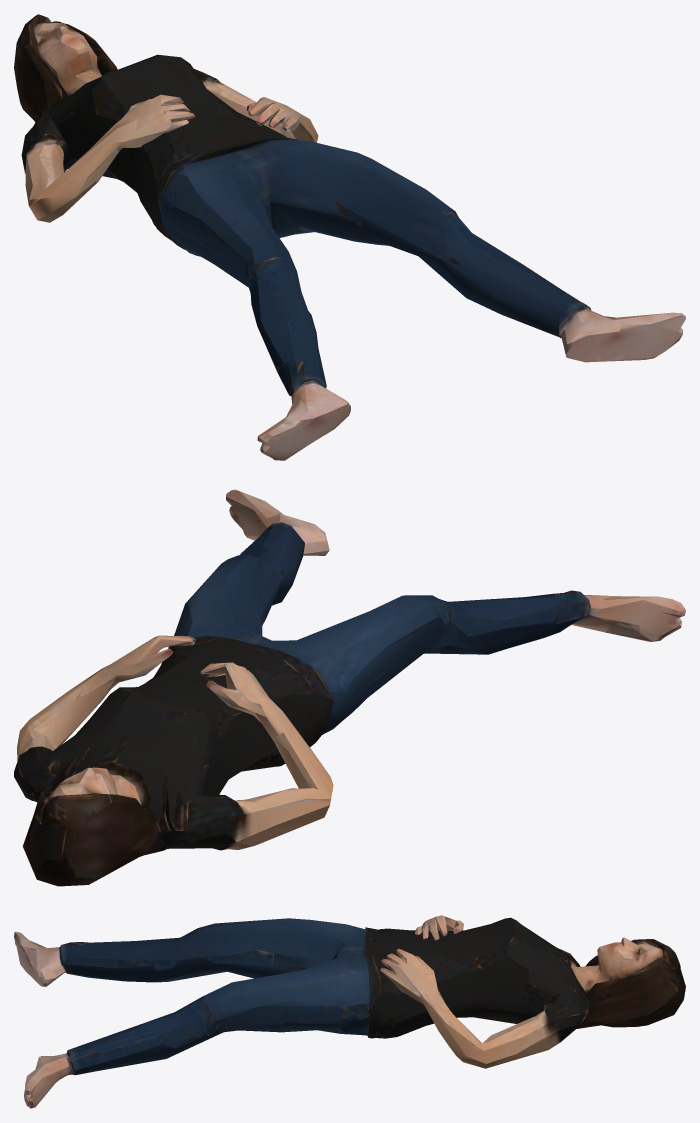
The model's file is pingsan_idle_lod2.glb.
3 renders of one model, top to bottom at view 1: azimuth 30°, elevation 25°; view 2: azimuth 150°, elevation 25°; view 3: azimuth 270°, elevation 25°, orthographic. The views are drawn at different scales.
Visible parts, largest first — view 1: tripo_node_25841f66; view 2: tripo_node_25841f66; view 3: tripo_node_25841f66.
Boxes of the visible parts, bbox=[...] form: tripo_node_25841f66: bbox=[14, 14, 685, 460]; tripo_node_25841f66: bbox=[14, 489, 685, 886]; tripo_node_25841f66: bbox=[14, 915, 685, 1108].
Size of the model in its own units: 61.24 by 18.71 by 104.
1 material, 1 textured.
